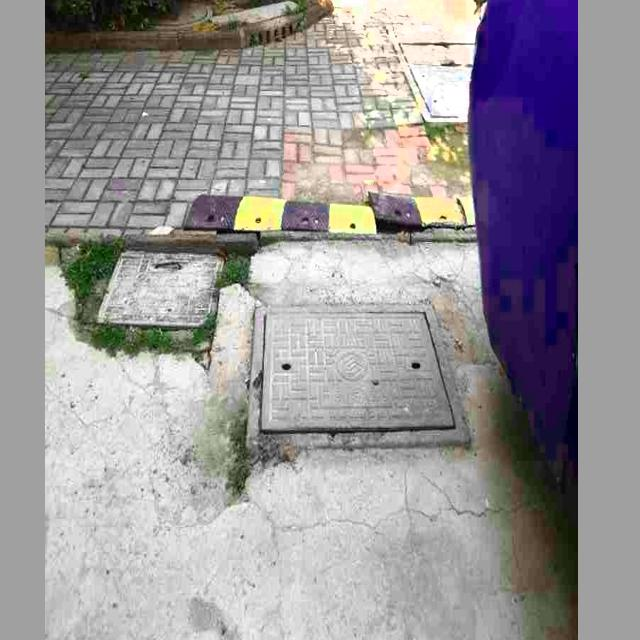good: (239, 305, 470, 447), (94, 247, 224, 328), (386, 15, 478, 124)
